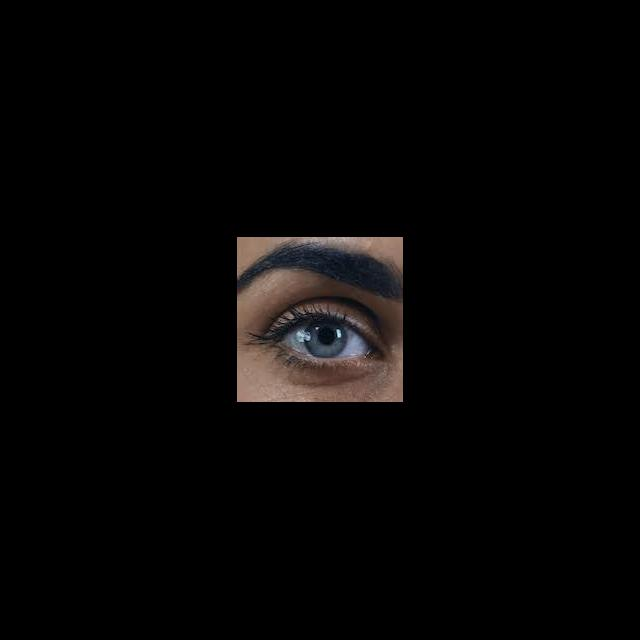eye: (284, 322, 367, 359)
iris: (305, 324, 349, 358)
